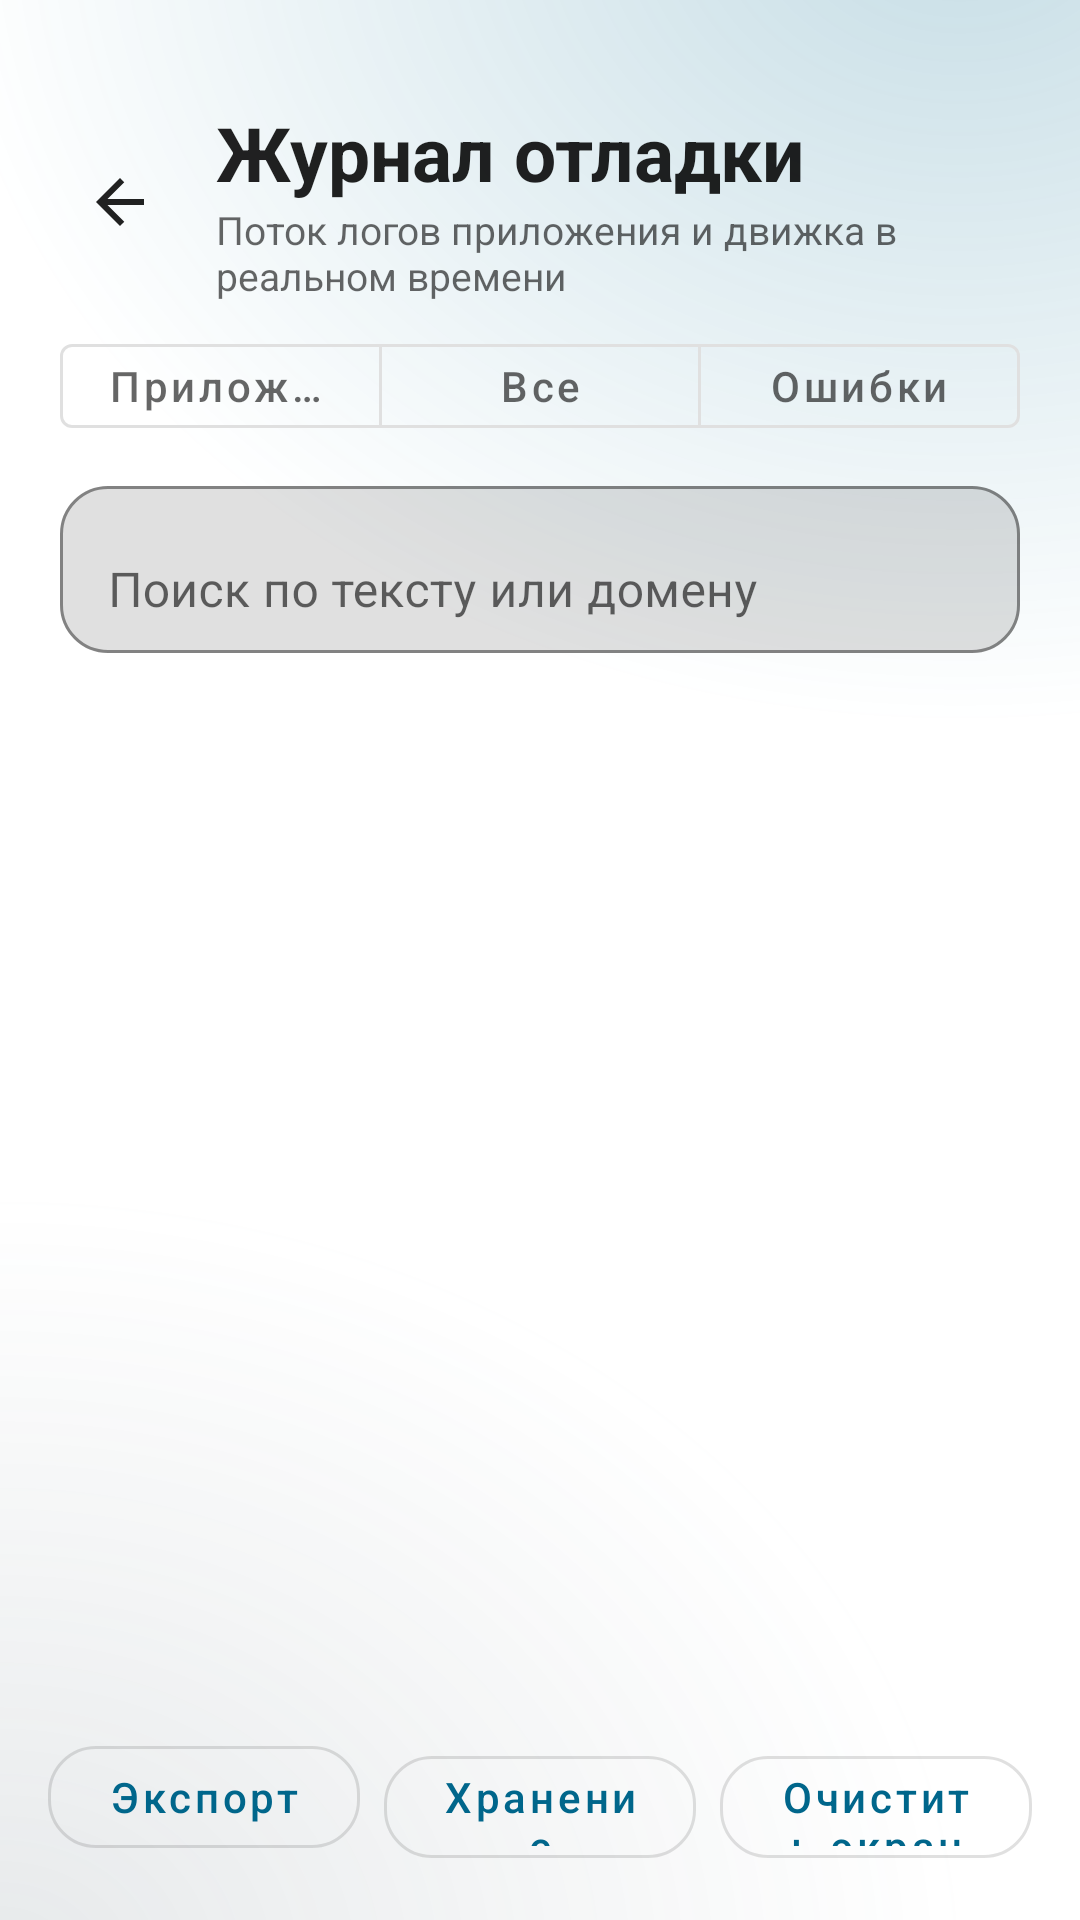

Where to tap for icons on this 1080*1920 app screen, as [x,y]:
Назад: [120,202]
